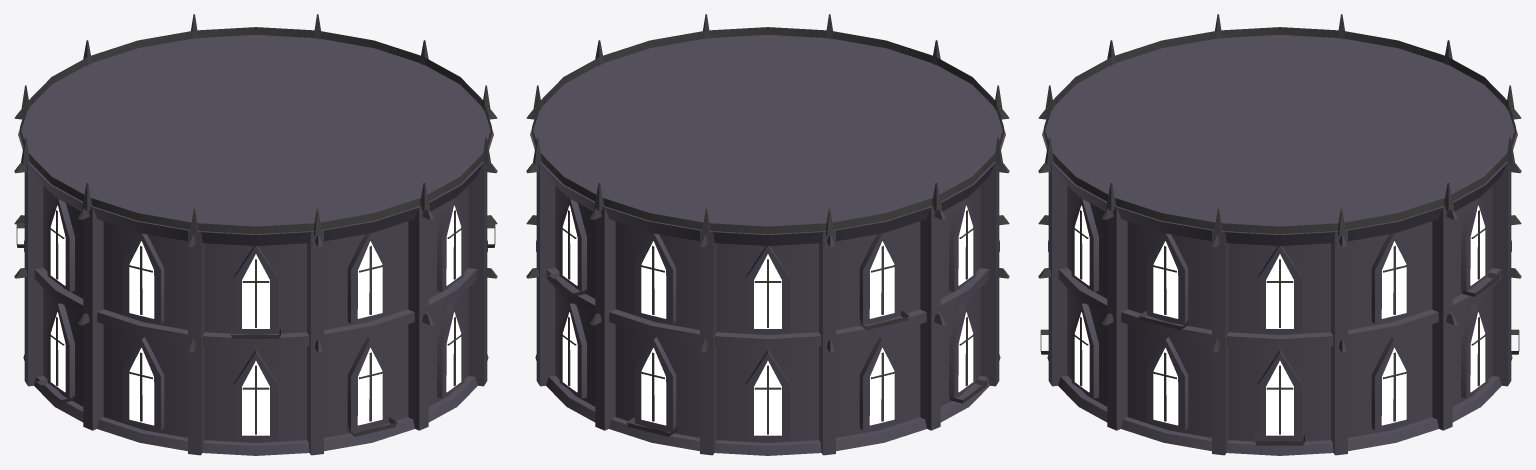
Rendered from Tower_Mid_Segment.fbx.
The picture shows the model from 3 angles, left to right: view 1: azimuth 30°, elevation 25°; view 2: azimuth 150°, elevation 25°; view 3: azimuth 270°, elevation 25°; orthographic projection.
Visible parts, largest first — view 1: Tower_Mid_Segment; view 2: Tower_Mid_Segment; view 3: Tower_Mid_Segment.
Boxes of the visible parts, x1,y1,x2,y2 form: Tower_Mid_Segment: [14, 14, 497, 455]; Tower_Mid_Segment: [526, 14, 1009, 455]; Tower_Mid_Segment: [1038, 14, 1521, 455].
Size of the model in its own units: 70.71 by 39.7 by 70.71.
